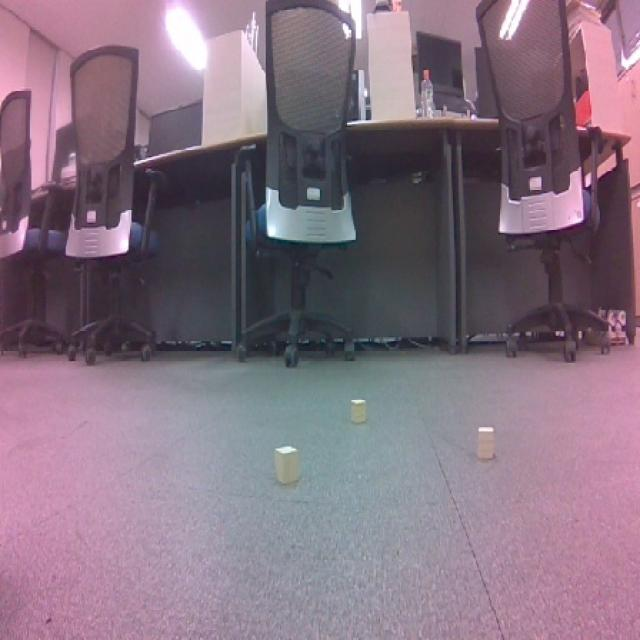obstacle: (468, 419, 506, 465), (269, 443, 304, 489), (342, 392, 378, 430)
